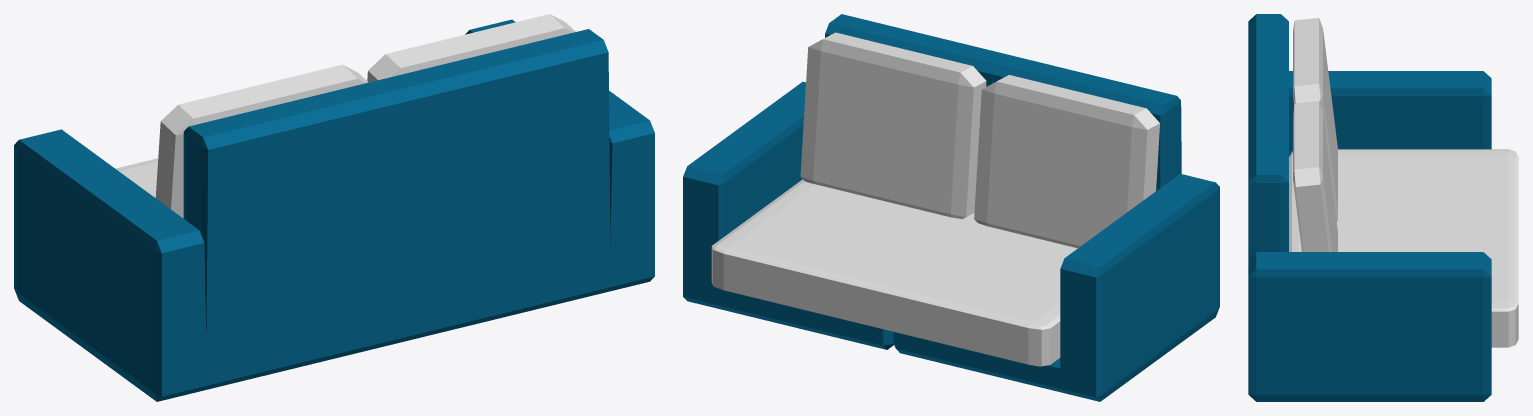
File: Big Sofa.fbx
3 views of the same model, side by side, from view 1: azimuth 30°, elevation 25°; view 2: azimuth 150°, elevation 25°; view 3: azimuth 270°, elevation 25° (orthographic). The views are drawn at different scales.
Parts seen in each view (by area): view 1: big_sofa; view 2: big_sofa; view 3: big_sofa.
Part boxes in pixels (bbox=[...]): big_sofa: bbox=[14, 14, 654, 401]; big_sofa: bbox=[683, 14, 1219, 401]; big_sofa: bbox=[1248, 14, 1518, 401].
Bounding box in the file's own units: 995 × 488 × 569.
